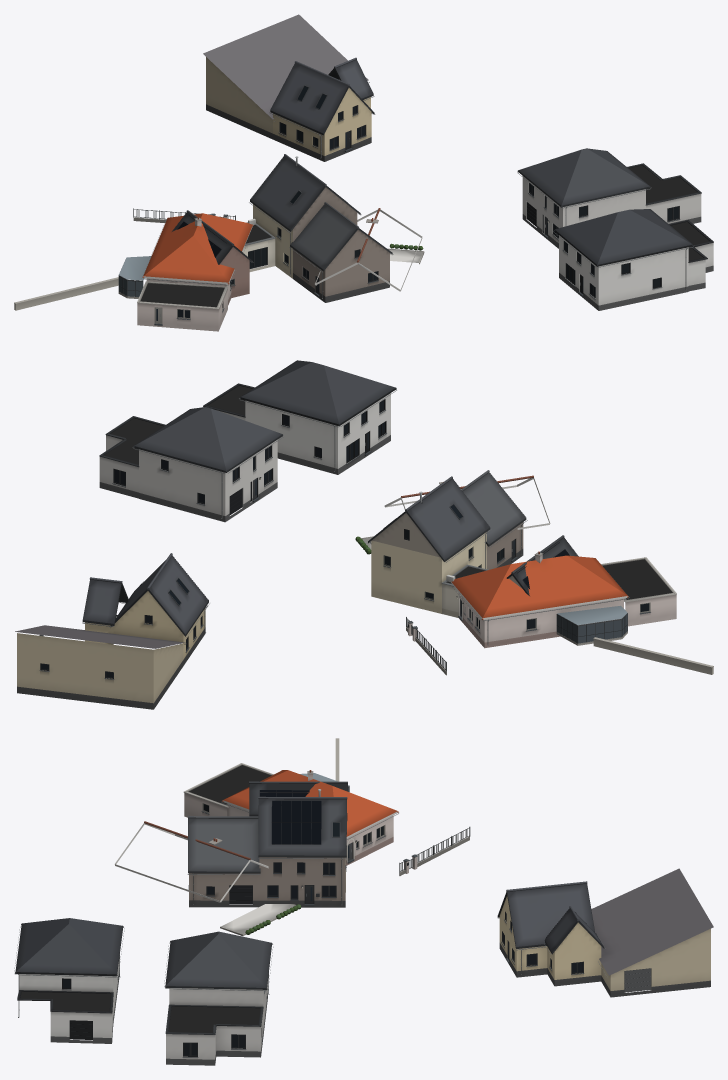
Rendered from homestreet.glb.
3 renders of one model, top to bottom at view 1: azimuth 30°, elevation 25°; view 2: azimuth 150°, elevation 25°; view 3: azimuth 270°, elevation 25°, orthographic. The views are drawn at different scales.
Visible parts, largest first — view 1: home_hs_tiles, home_hs_brick_buff, home_hs_trim, bungalow_hs_tiles, bungalow_hs_trim, home_hs_render, bungalow_hs_brick_red, home_hs_glass, bungalow_hs_glass, home_hs_brick_red; view 2: home_hs_brick_buff, home_hs_tiles, home_hs_trim, bungalow_hs_tiles, home_hs_render, bungalow_hs_trim, bungalow_hs_brick_red, bungalow_hs_glass, home_hs_glass, home_hs_wood; view 3: home_hs_tiles, home_hs_brick_buff, home_hs_trim, bungalow_hs_trim, home_hs_glass, bungalow_hs_tiles, bungalow_hs_brick_red, bungalow_hs_slab.
Boxes of the visible parts, x1,y1,x2,y2 form: home_hs_tiles: (172,14,693,269); home_hs_brick_buff: (206,57,713,310); home_hs_trim: (14,61,713,304); bungalow_hs_tiles: (142,208,380,284); bungalow_hs_trim: (118,208,424,325); home_hs_render: (14,204,292,310); bungalow_hs_brick_red: (137,217,231,331); home_hs_glass: (178,86,678,296); bungalow_hs_glass: (119,256,230,320); home_hs_brick_red: (220,247,249,297); home_hs_brick_buff: (17,393,523,709); home_hs_tiles: (15,360,578,648); home_hs_trim: (39,383,713,679); bungalow_hs_tiles: (401,475,628,619); home_hs_render: (371,532,713,674); bungalow_hs_trim: (355,477,676,675); bungalow_hs_brick_red: (408,555,676,648); bungalow_hs_glass: (461,601,649,643); home_hs_glass: (41,400,569,677); home_hs_wood: (372,513,522,588); home_hs_tiles: (15,781,713,989); home_hs_brick_buff: (19,857,710,1065); home_hs_trim: (14,738,651,1057); bungalow_hs_trim: (114,763,470,936); home_hs_glass: (63,790,582,1055); bungalow_hs_tiles: (144,770,398,859); bungalow_hs_brick_red: (184,774,417,873); bungalow_hs_slab: (221,904,295,933).
Bounding box in the file's own units: 80.38 × 11.87 × 74.63.
